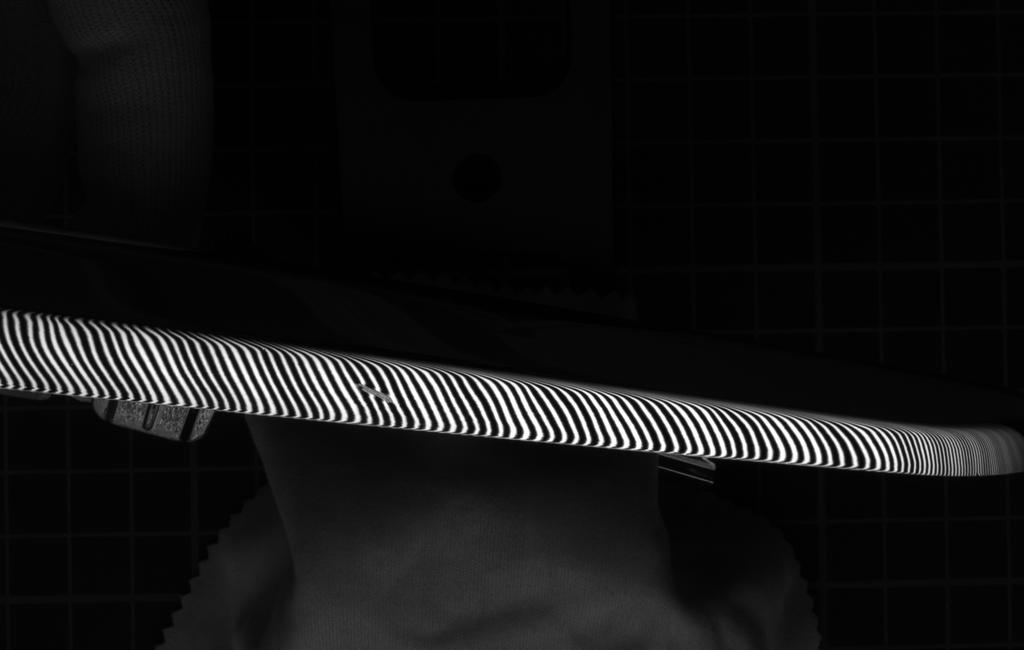Scratch: (350, 378, 407, 408)
